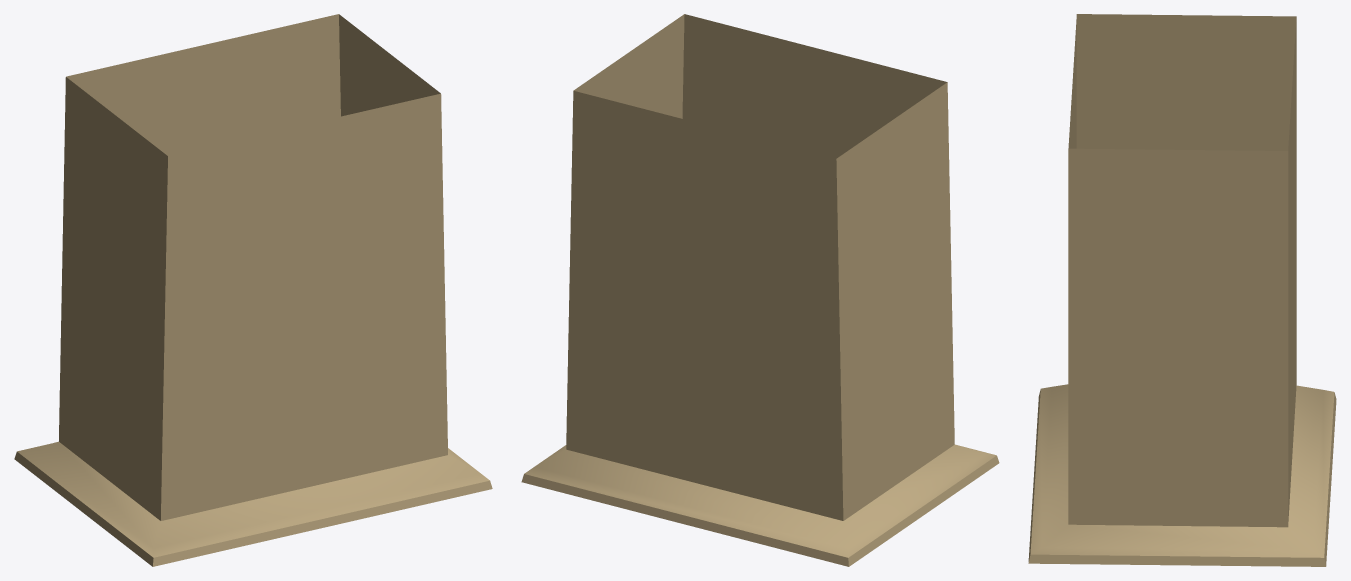
Rendered from extractor.fbx.
The picture shows the model from 3 angles, left to right: view 1: azimuth 30°, elevation 25°; view 2: azimuth 150°, elevation 25°; view 3: azimuth 270°, elevation 25°; orthographic projection. The views are drawn at different scales.
Visible parts, largest first — view 1: Box002; view 2: Box002; view 3: Box002.
Boxes of the visible parts, box(x1,y1,x2,y2) form: Box002: box(14, 14, 492, 566); Box002: box(521, 14, 999, 566); Box002: box(1028, 14, 1336, 566).
Size of the model in its own units: 2500 by 2778 by 1904.
